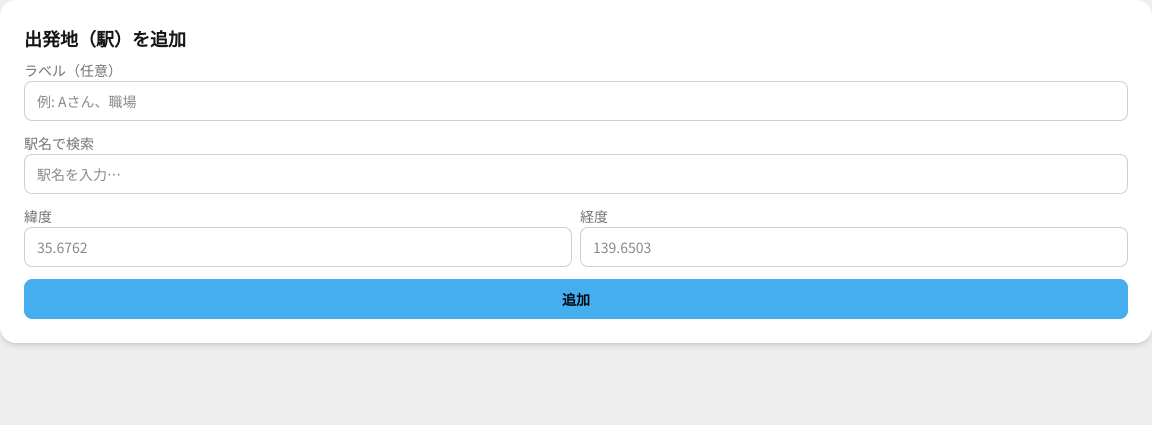
Test: LocationForm › coordinate edit clears station › should clear selected station when latitude is edited
Type "東京" into the field named "駅名検索". click: [576, 174]
box: x1=24 y1=154 x2=1128 y2=194
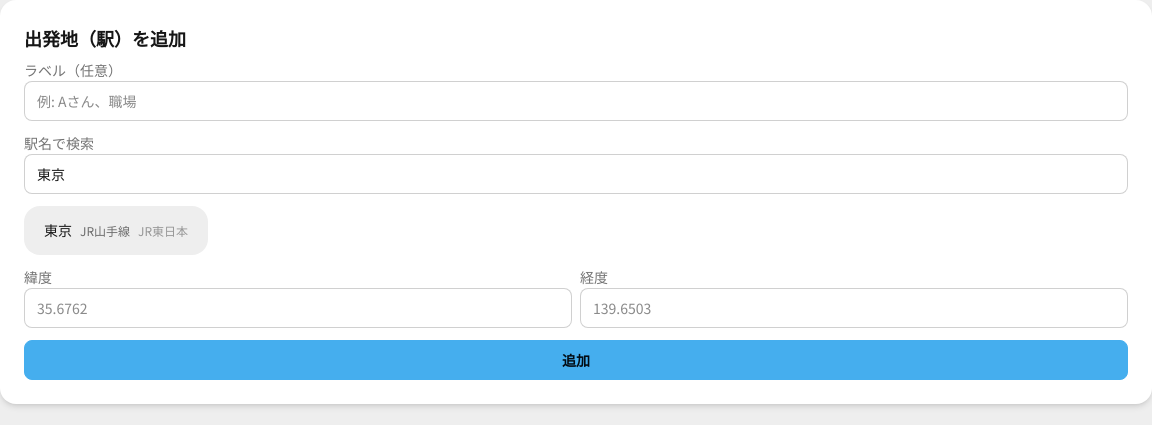
Click the text "東京". click: [58, 230]
box: x1=44 y1=220 x2=72 y2=241
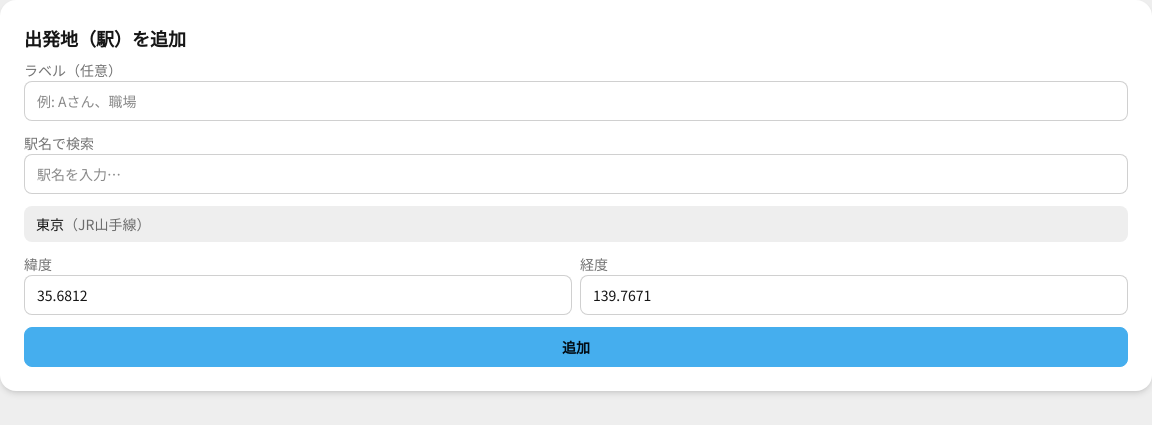
Expected: the element with test id "selected-station" is shown, x1=24 y1=206 x2=1128 y2=242
Replace the text in the number field labelled "緯度" with "36.0". click: [298, 295]
box: x1=24 y1=275 x2=572 y2=315
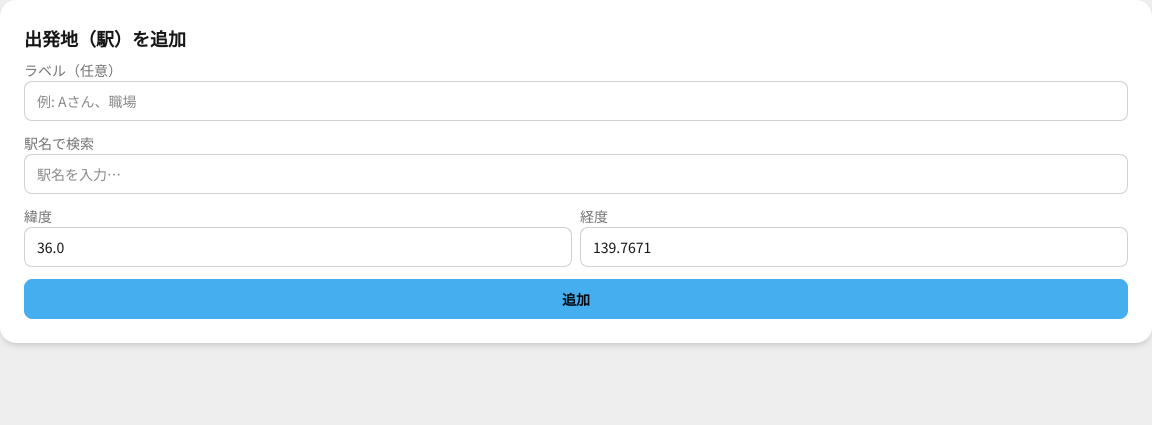
Expected: the element with test id "selected-station" is gone
